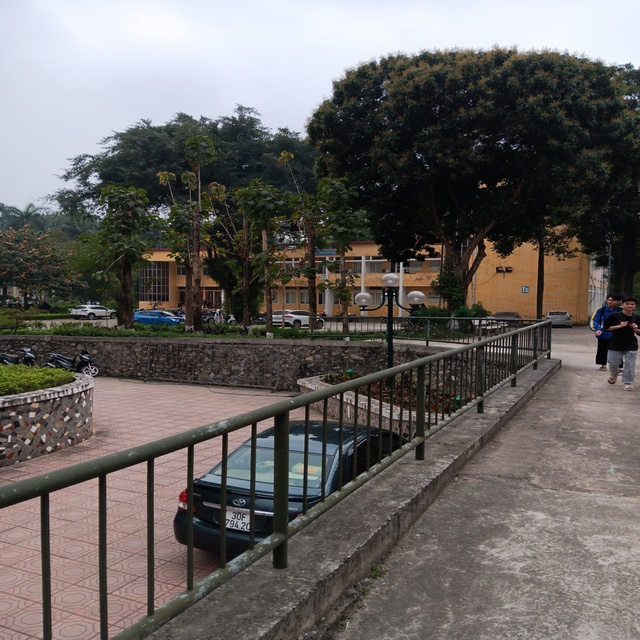cotden: (354, 271, 432, 400)
